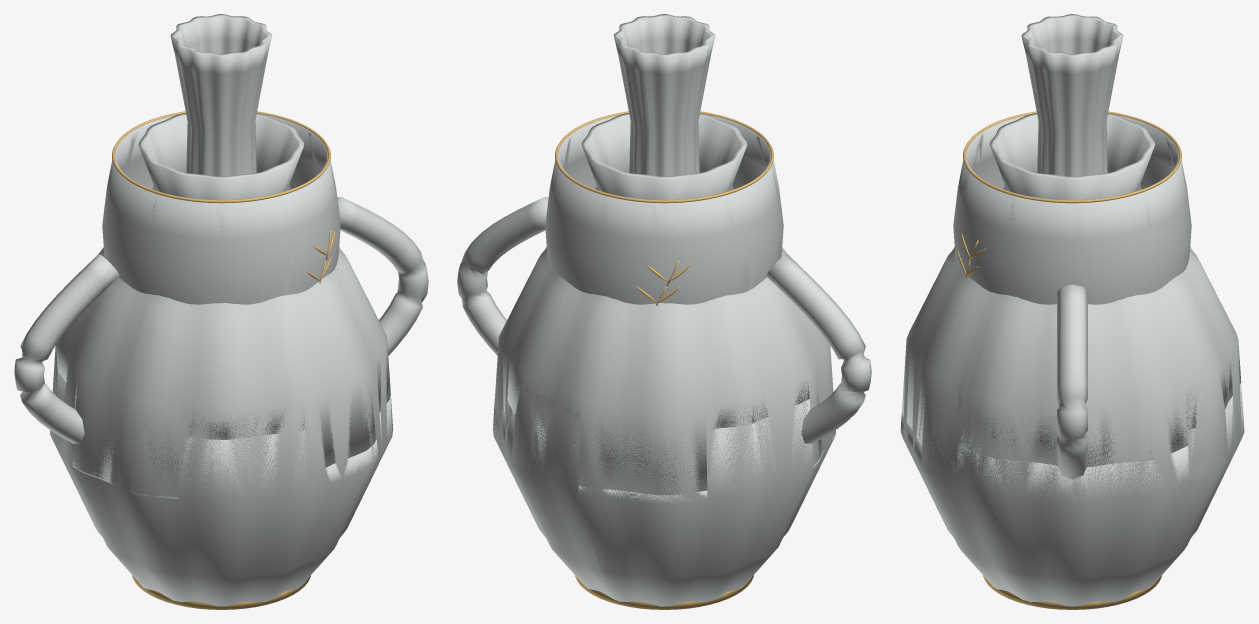
Rendered from vessels-qa-v2.glb.
3 views of the same model, side by side, from view 1: azimuth 30°, elevation 25°; view 2: azimuth 150°, elevation 25°; view 3: azimuth 270°, elevation 25° (orthographic).
Parts seen in each view (by area): view 1: vase_amphora_intact, vase_amphora, goblet_laurel_intact, vase_fluted_intact, goblet_laurel, vase_amphora_base; view 2: vase_amphora_intact, vase_amphora, goblet_laurel_intact, vase_fluted_intact, goblet_laurel, vase_amphora_base; view 3: vase_amphora_intact, vase_amphora, goblet_laurel_intact, vase_fluted_intact, goblet_laurel, vase_amphora_base.
Boxes of the visible parts, x1,y1,x2,y2 form: vase_amphora_intact: (14, 113, 428, 606); vase_amphora: (20, 113, 428, 605); goblet_laurel_intact: (102, 111, 340, 304); vase_fluted_intact: (170, 14, 272, 176); goblet_laurel: (103, 112, 338, 304); vase_amphora_base: (132, 575, 310, 609); vase_amphora_intact: (457, 113, 871, 606); vase_amphora: (458, 115, 871, 599); goblet_laurel_intact: (545, 111, 783, 305); vase_fluted_intact: (613, 14, 715, 176); goblet_laurel: (546, 112, 782, 304); vase_amphora_base: (575, 575, 753, 609); vase_amphora_intact: (900, 113, 1244, 606); vase_amphora: (900, 113, 1244, 604); goblet_laurel_intact: (953, 111, 1191, 304); vase_fluted_intact: (1021, 14, 1123, 176); goblet_laurel: (954, 112, 1191, 304); vase_amphora_base: (983, 575, 1161, 609).
Bounding box in the file's own units: 0.554 × 0.69 × 0.4011.
